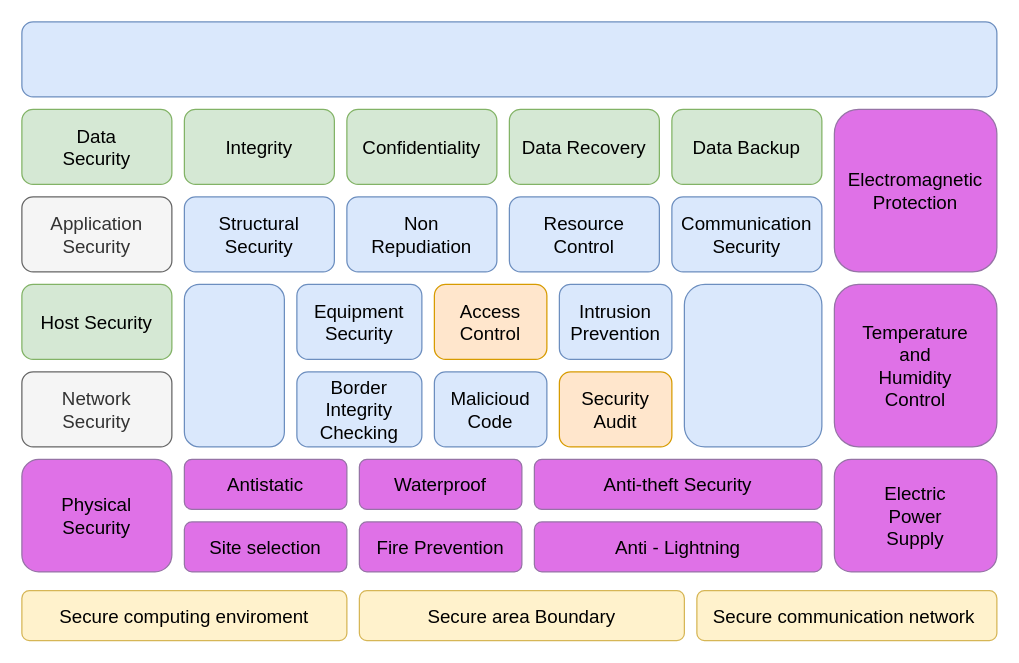
Image size: 1019x663. Some labels were removed from this diagram. Here are the shapes that lost their labels. From the top down, the centre of each, then its label:
At (509,59): "Technology Framework of Information Security For Test Enviroment".
At (233,365): "Identity Authen tication".
At (752,365): "Remaining Information Protection".
